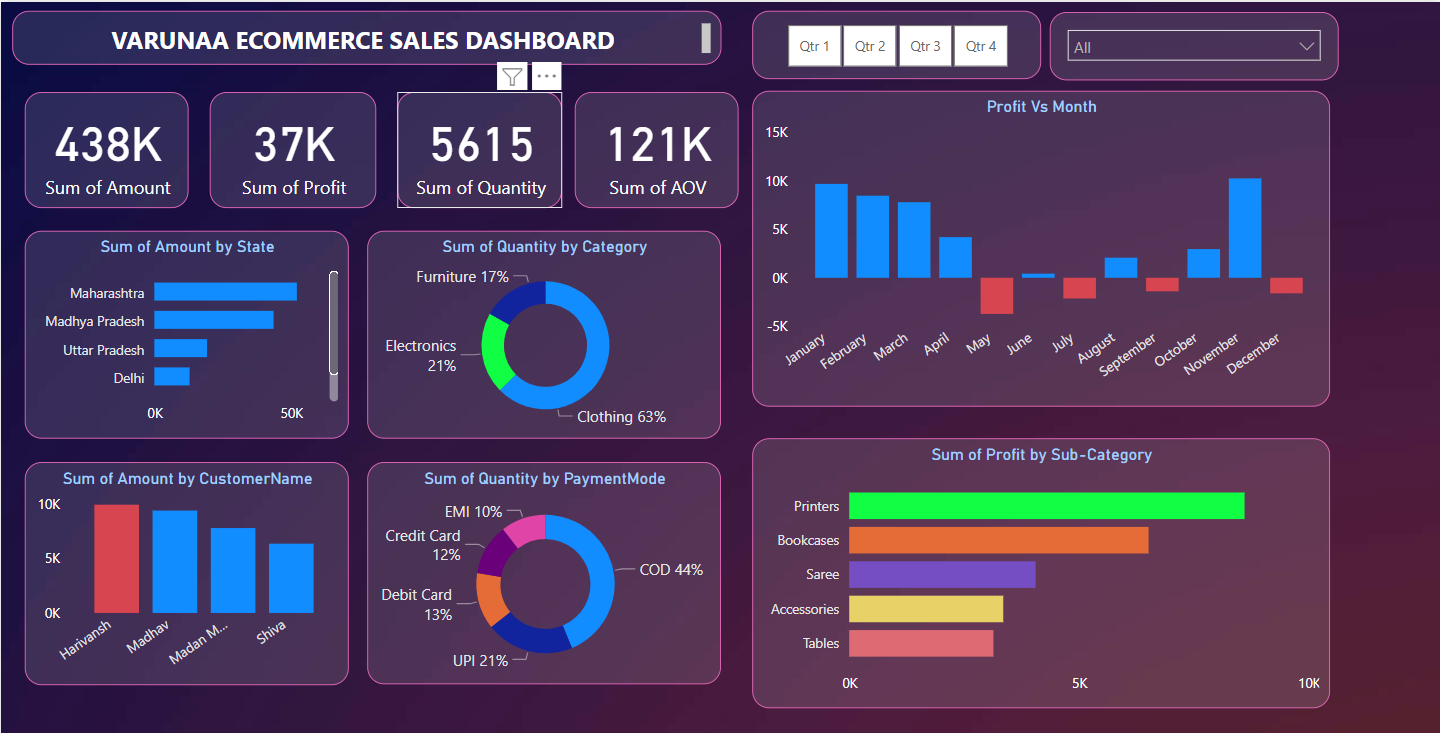

Layout of this report page (visuals, bound fields, positions):
{"tool":"powerbi","page":{"name":"powerBiProject1","canvas":[1280,720],"ordinal":0},"visuals":[{"type":"textbox","box":[10,7.8,630,47.8],"z":0},{"type":"columnChart","title":"Profit Vs Month","fields":{"Y":["Details.Profit"],"Category":["Orders.Order Date.Variation.Date Hierarchy.Month"]},"box":[667.8,78.9,513.3,281.1],"z":1000},{"type":"barChart","fields":{"Category":["Details.Sub-Category"],"Y":["Details.Profit"]},"box":[667.8,387.8,513.3,240],"z":2000},{"type":"donutChart","fields":{"Category":["Details.Category"],"Y":["Details.Quantity"]},"box":[325.6,188.9,314.4,184.4],"z":3000},{"type":"donutChart","fields":{"Category":["Details.PaymentMode"],"Y":["Details.Quantity"]},"box":[325.6,408.9,314.4,197.8],"z":4000},{"type":"card","fields":{"Values":["Details.Amount"]},"box":[21.1,80,145.6,95.6],"z":5000},{"type":"card","fields":{"Values":["Details.Profit"]},"box":[185.6,80,147.8,95.6],"z":6000},{"type":"card","fields":{"Values":["Details.Quantity"]},"box":[352.2,80,146.7,95.6],"z":7000},{"type":"card","fields":{"Values":["Details.AOV"]},"box":[510,80,145.6,95.6],"z":8000},{"type":"barChart","fields":{"Category":["Orders.State"],"Y":["Details.Amount"]},"box":[21.1,188.9,287.8,184.4],"z":9000},{"type":"columnChart","fields":{"Category":["Orders.CustomerName"],"Y":["Details.Amount"]},"box":[21,409,288,198],"z":9001},{"type":"slicer","fields":{"Values":["Orders.Order Date.Variation.Date Hierarchy.Quarter"]},"box":[667.8,7.8,256.7,61.1],"z":9002},{"type":"slicer","fields":{"Values":["Orders.State"]},"box":[932.2,8.9,256.7,61.1],"z":9003}]}

Visuals, with their boxes on the page's 1280x720 design canvas (x1, y1, x2, y2). These are canvas units, not pixel positions in the 1440x733 screenshot, which may show the page scaled, cropped or inside an application window:
textbox: (x1=10, y1=8, x2=640, y2=56)
"Profit Vs Month" columnChart: (x1=668, y1=79, x2=1181, y2=360)
barChart - Details.Sub-Category x Details.Profit: (x1=668, y1=388, x2=1181, y2=628)
donutChart - Details.Category x Details.Quantity: (x1=326, y1=189, x2=640, y2=373)
donutChart - Details.PaymentMode x Details.Quantity: (x1=326, y1=409, x2=640, y2=607)
card - Details.Amount: (x1=21, y1=80, x2=167, y2=176)
card - Details.Profit: (x1=186, y1=80, x2=333, y2=176)
card - Details.Quantity: (x1=352, y1=80, x2=499, y2=176)
card - Details.AOV: (x1=510, y1=80, x2=656, y2=176)
barChart - Orders.State x Details.Amount: (x1=21, y1=189, x2=309, y2=373)
columnChart - Orders.CustomerName x Details.Amount: (x1=21, y1=409, x2=309, y2=607)
slicer - Orders.Order Date.Variation.Date Hierarchy.Quarter: (x1=668, y1=8, x2=924, y2=69)
slicer - Orders.State: (x1=932, y1=9, x2=1189, y2=70)
